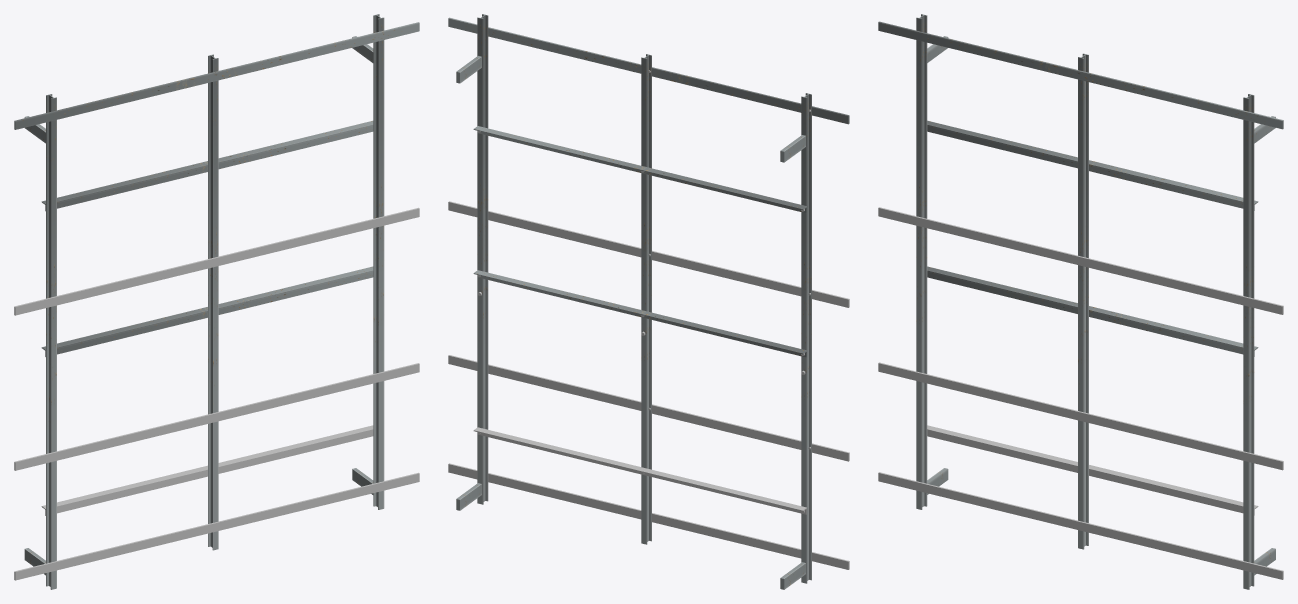
The model's file is signboardframe03a.fbx.
3 views of the same model, side by side, from view 1: azimuth 30°, elevation 25°; view 2: azimuth 150°, elevation 25°; view 3: azimuth 330°, elevation 25° (orthographic).
Visible parts, largest first — view 1: signboardframe03a; view 2: signboardframe03a; view 3: signboardframe03a.
Part boxes in pixels (<box>): signboardframe03a: <box>14,14,419,589</box>; signboardframe03a: <box>448,14,849,589</box>; signboardframe03a: <box>878,14,1283,589</box>.
Bounding box in the file's own units: 263 × 305 × 31.88.
